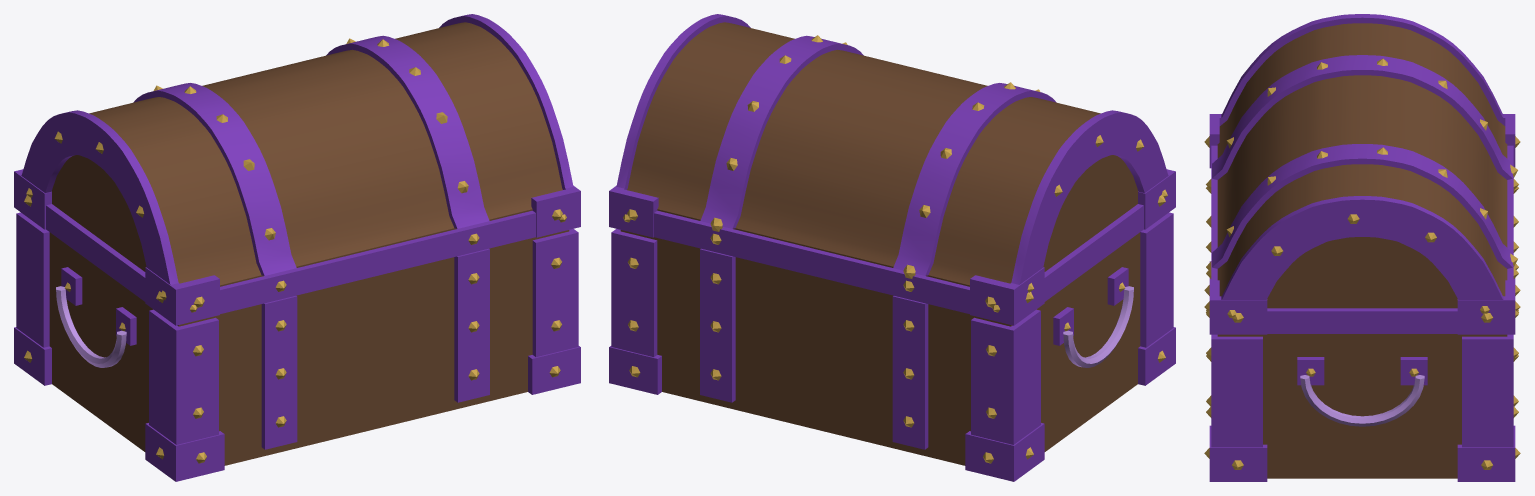
3 views of the same model, side by side, from view 1: azimuth 30°, elevation 25°; view 2: azimuth 150°, elevation 25°; view 3: azimuth 270°, elevation 25° (orthographic). The views are drawn at different scales.
Parts seen in each view (by area): view 1: movable, fixed; view 2: movable, fixed; view 3: movable, fixed.
Boxes of the visible parts, x1,y1,x2,y2 form: movable: [14, 14, 580, 325]; fixed: [14, 212, 580, 481]; movable: [609, 14, 1175, 325]; fixed: [609, 212, 1175, 481]; movable: [1204, 14, 1520, 334]; fixed: [1204, 186, 1520, 481].
Bounding box in the file's own units: 0.5 × 0.3427 × 0.3439.
1 material, 1 textured.
